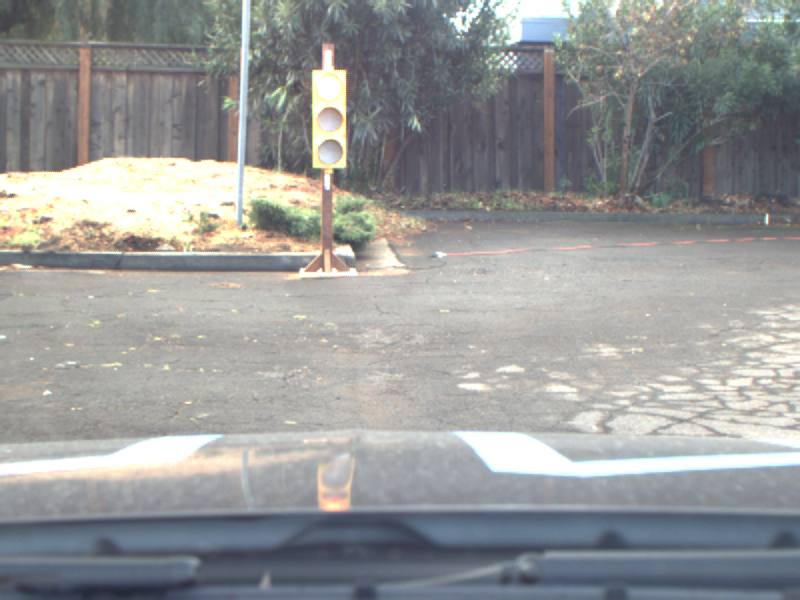Red: (312, 68, 350, 170)
